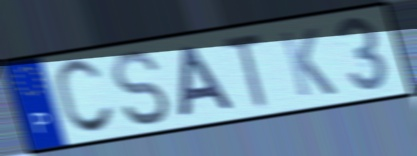3: (334, 12, 392, 97)
A: (175, 43, 239, 120)
C: (51, 56, 118, 138)
K: (276, 26, 340, 100)
S: (107, 49, 174, 129)
T: (219, 31, 272, 112)
